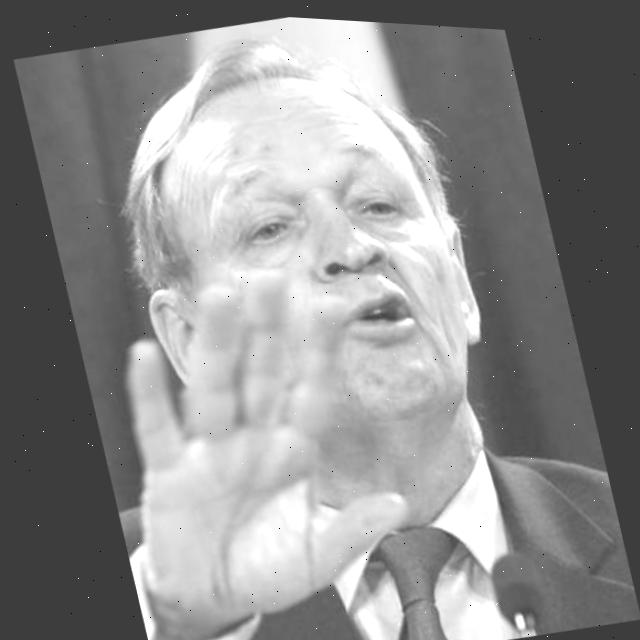face: (100, 39, 524, 497)
